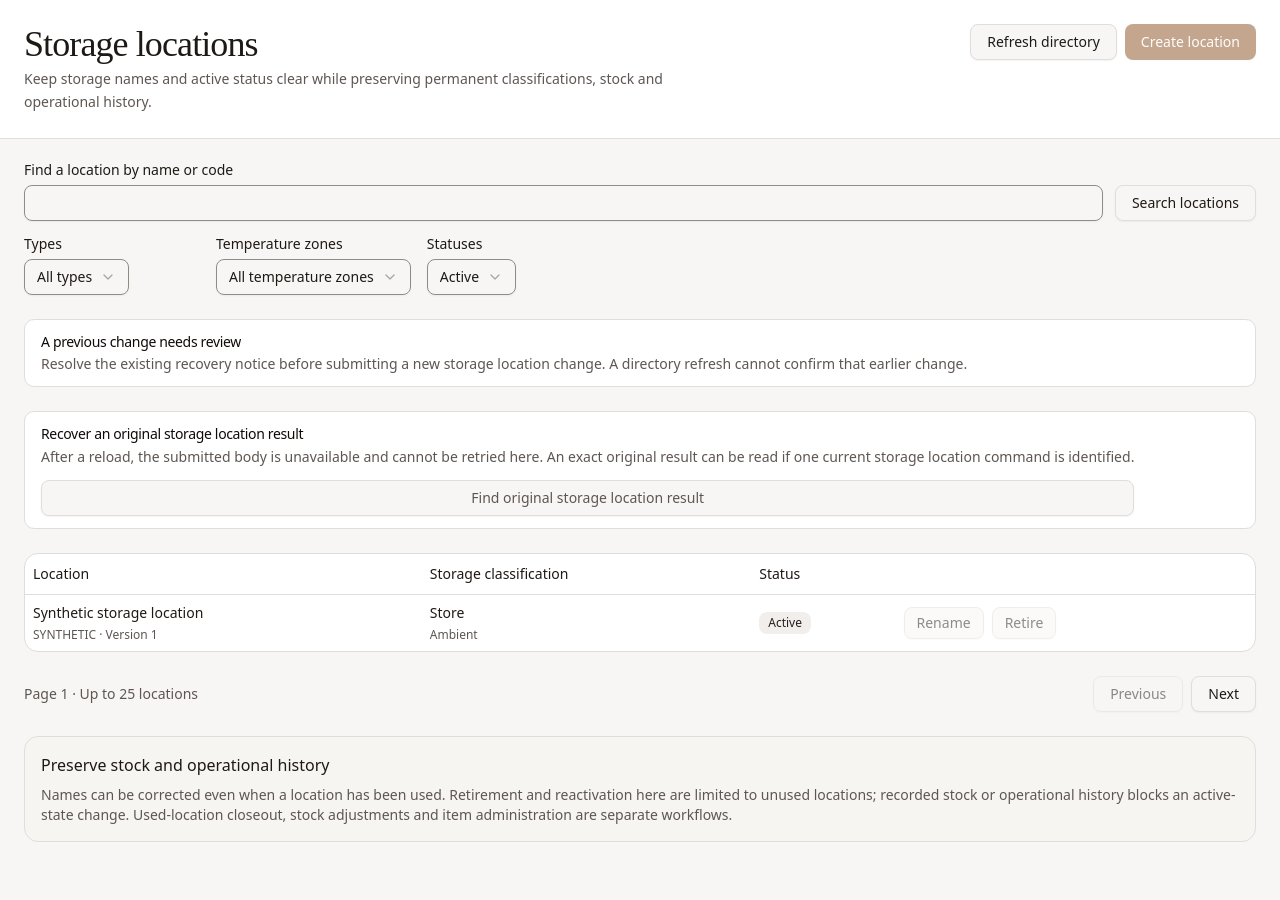
Scenario: keeps cursor pages instead of building a truncated storage-location tree and resets cursor on filters
The image size is (1280, 900).
Expected: the text "Synthetic storage location" is shown, [33,603,203,622]
Click the button "Next" at x=1224, y=694, box [1191,676,1256,712]
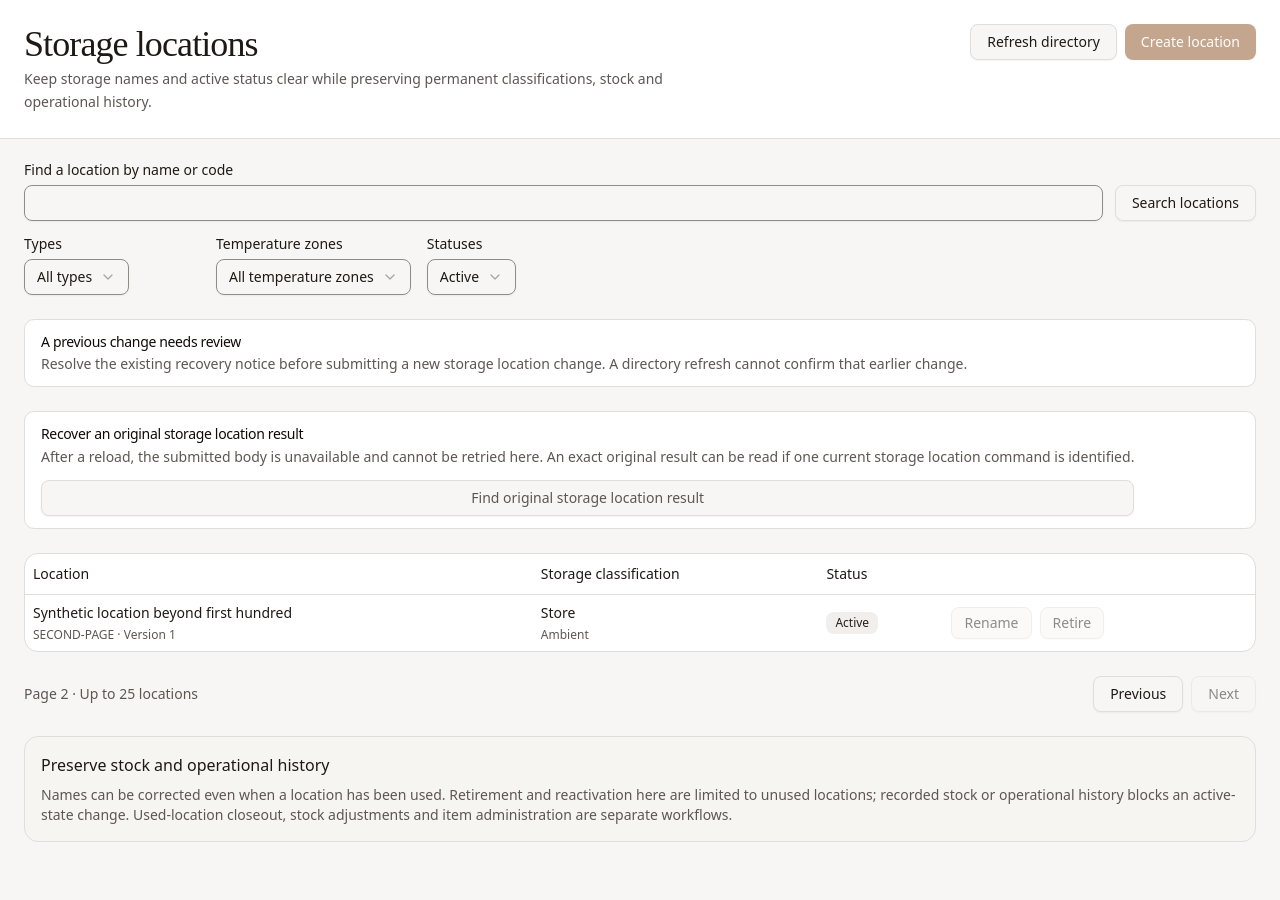
Expected: the text "Synthetic location beyond first hundred" is shown, [33,603,292,622]
Press ArrowDown in the dropdown named "Statuses", box [427,258,516,294]
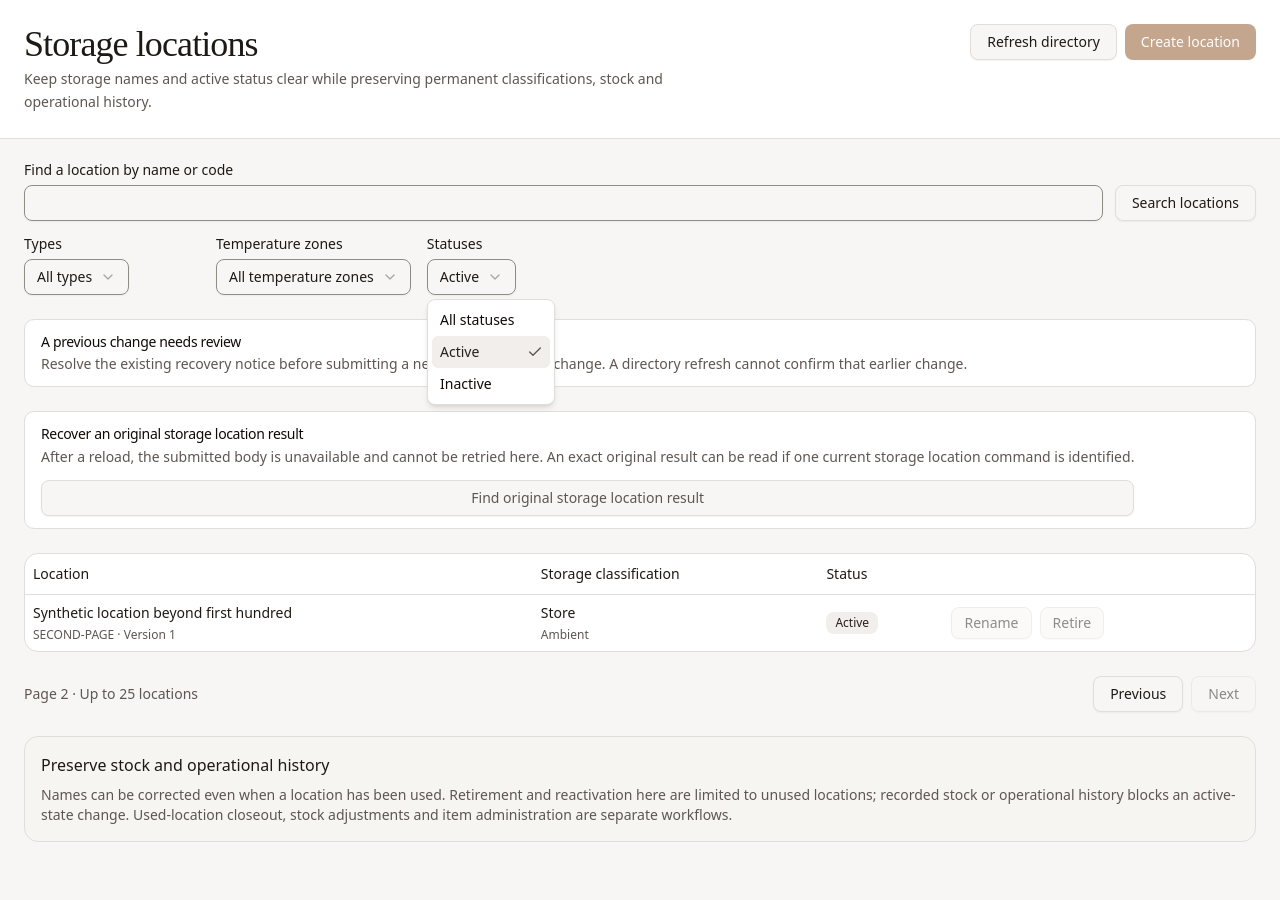
Click the option "Inactive" at x=466, y=384, box [440,374,492,393]
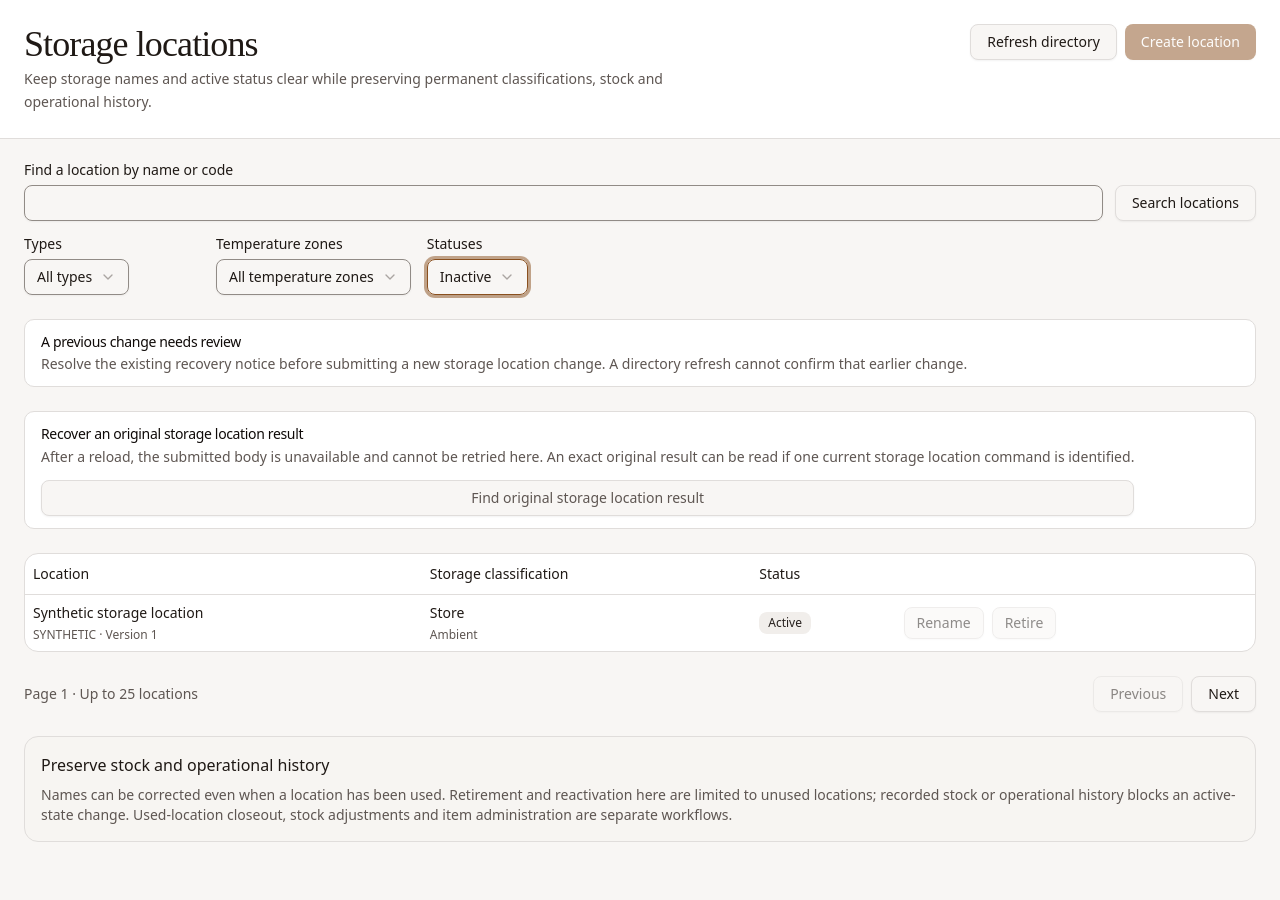
Expected: the text "Synthetic storage location" is shown, [33,603,203,622]
